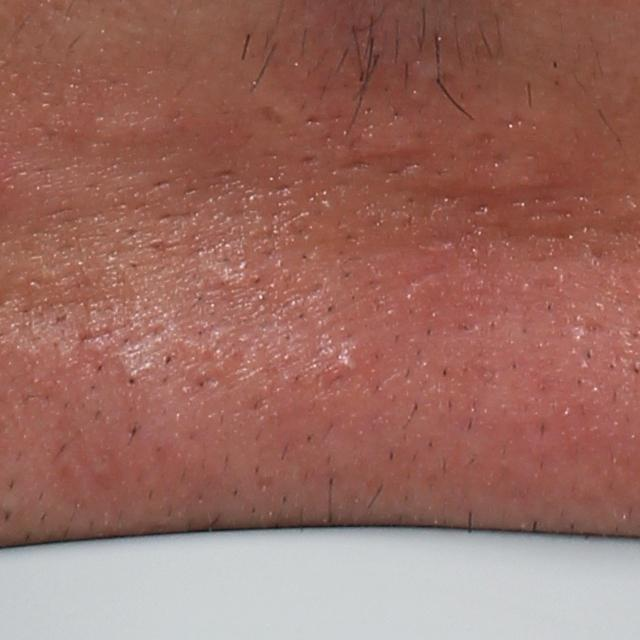atrophic_scar: (370, 185, 460, 237), (371, 265, 450, 311), (560, 310, 610, 345)
hypertrophic_scar: (84, 98, 177, 156)
